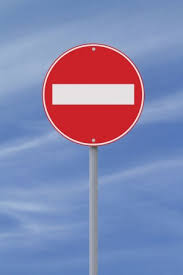No_entry: (41, 42, 145, 147)
